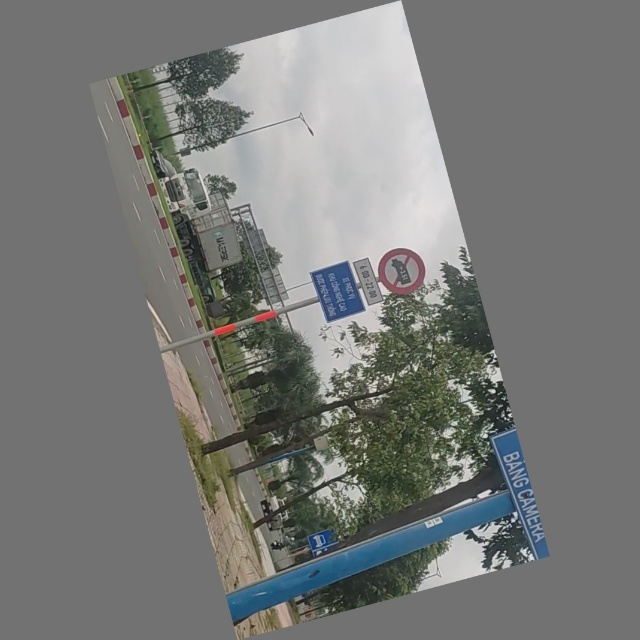P.106a*Xe tai: (374, 242, 431, 299)
